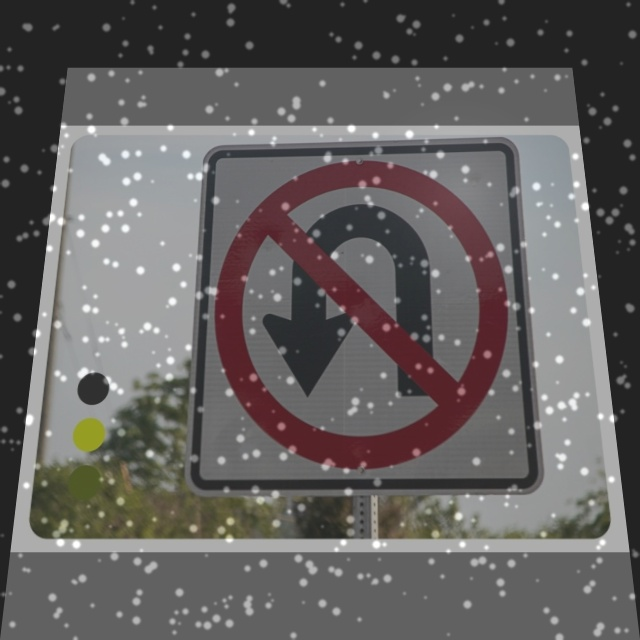U_Turn_Prohibited: (209, 157, 531, 476)
